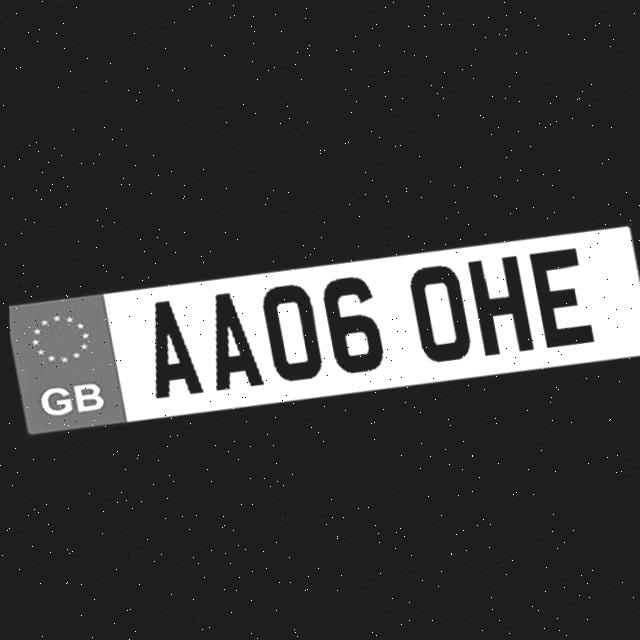license-plates: (9, 224, 640, 434)
